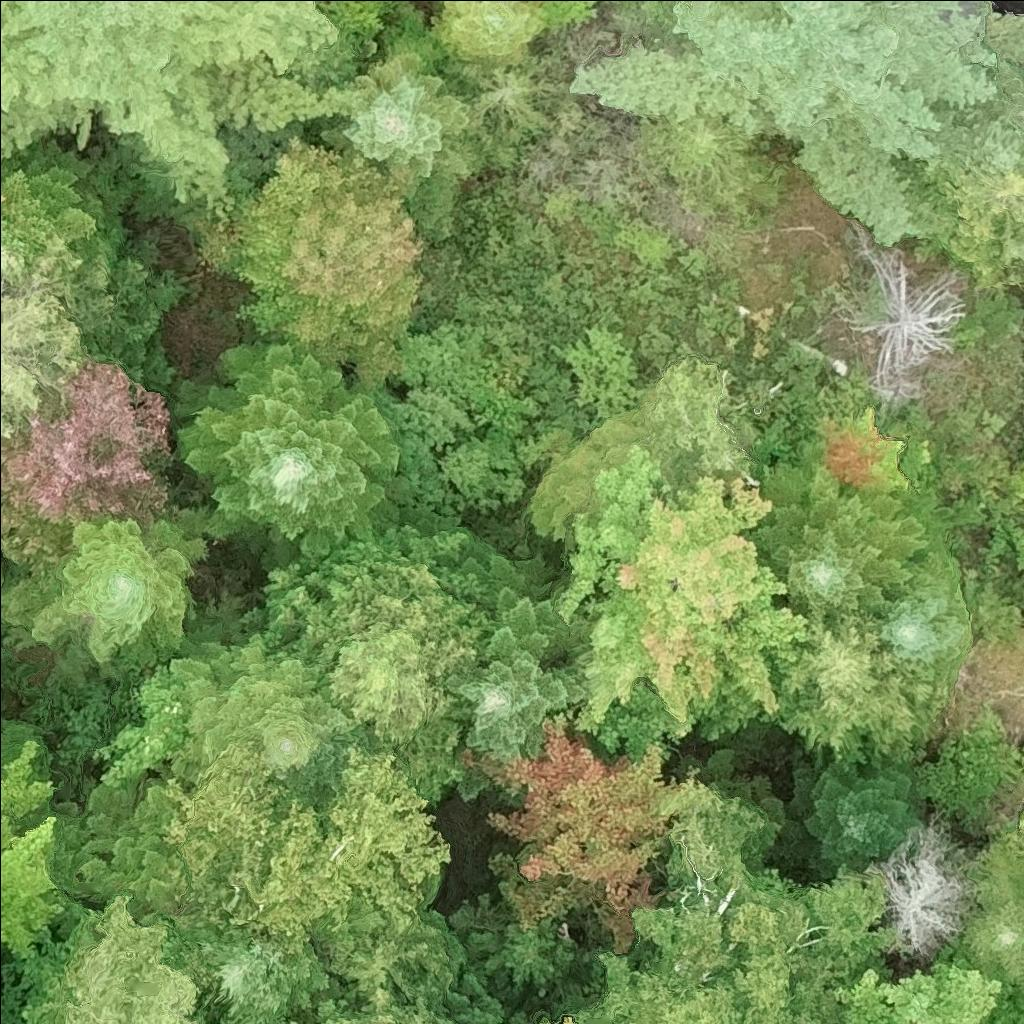crown: (570, 0, 998, 246), (0, 0, 365, 223), (597, 764, 898, 1023), (557, 442, 819, 728), (162, 734, 454, 960), (196, 136, 423, 388), (175, 329, 402, 565), (457, 720, 679, 949), (259, 520, 478, 748), (164, 597, 371, 787), (743, 438, 946, 628), (0, 356, 176, 571), (0, 502, 214, 669), (440, 545, 591, 761), (0, 893, 222, 1023), (780, 610, 955, 772), (0, 231, 118, 437), (54, 770, 208, 920), (319, 42, 481, 177), (845, 222, 969, 397), (172, 911, 344, 1023), (0, 136, 128, 278), (866, 810, 985, 959), (786, 753, 928, 877), (0, 735, 78, 958), (895, 154, 1023, 286), (837, 935, 1023, 1023), (633, 114, 785, 218), (323, 903, 463, 1012), (443, 50, 565, 166), (875, 550, 971, 687), (802, 403, 931, 487), (962, 820, 1023, 984), (429, 0, 548, 66), (285, 986, 462, 1023), (1014, 803, 1023, 837), (379, 0, 421, 6), (1023, 877, 1023, 882)
